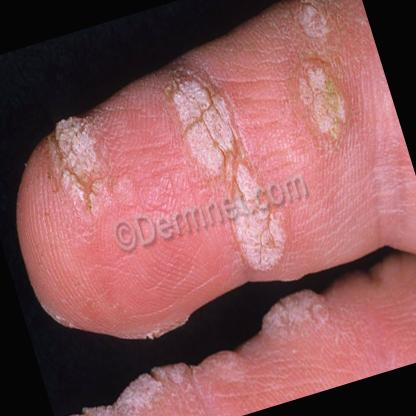Warts: (150, 42, 256, 191), (34, 94, 126, 230), (277, 0, 349, 63)
